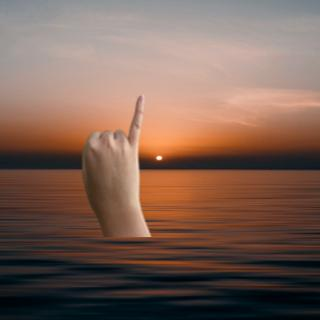Fine: (75, 92, 164, 240)
